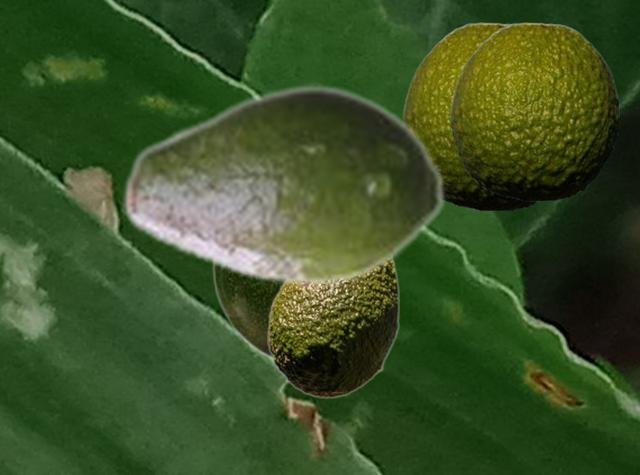avocado: (122, 83, 446, 287), (450, 22, 618, 200), (402, 22, 544, 210), (267, 262, 398, 398), (212, 266, 279, 360)
